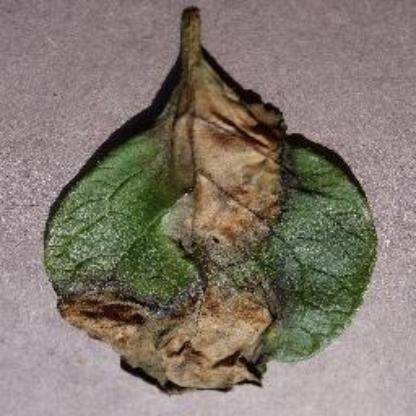Late-Blight: (35, 6, 396, 398)
